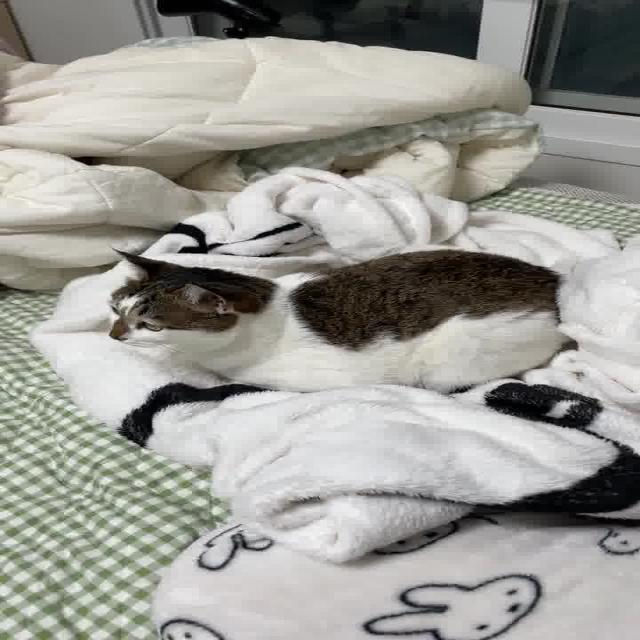cat: (98, 243, 571, 395)
